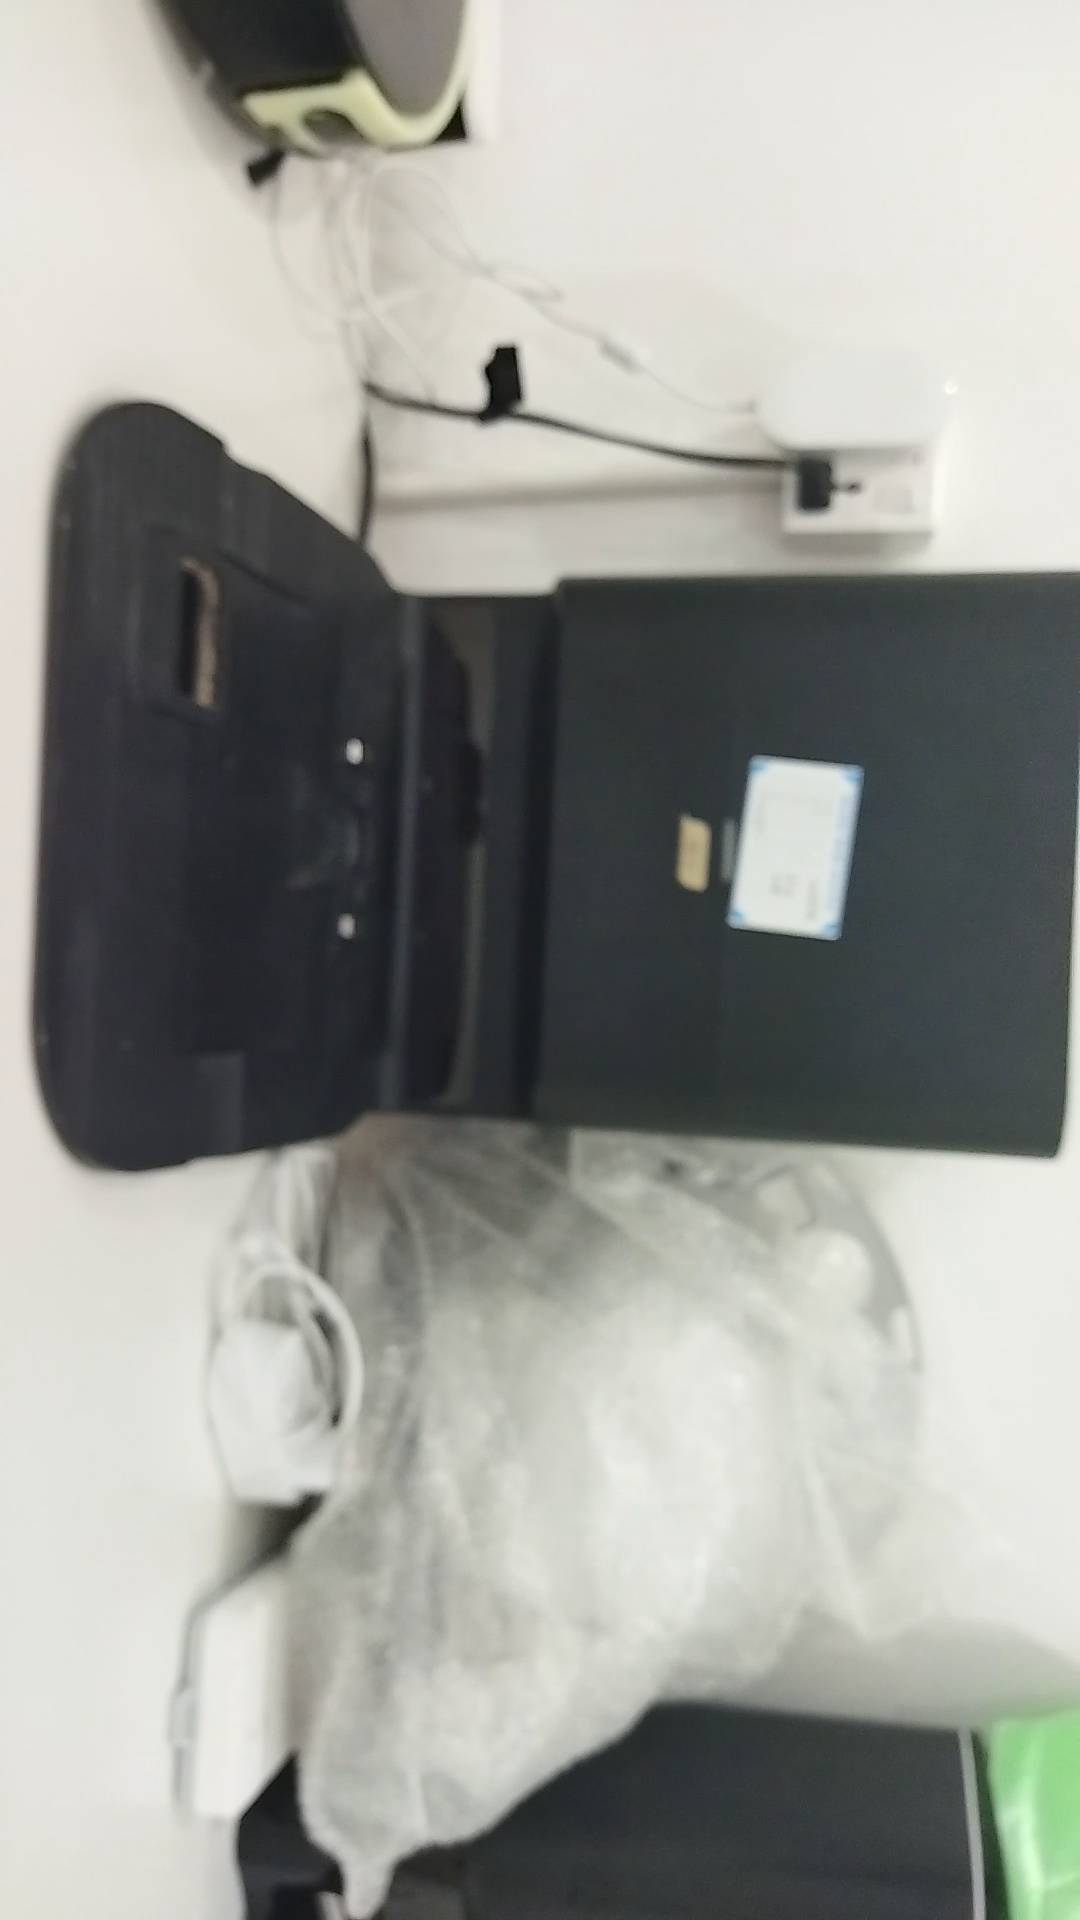dust collecting barrel: (34, 396, 1080, 1178)
